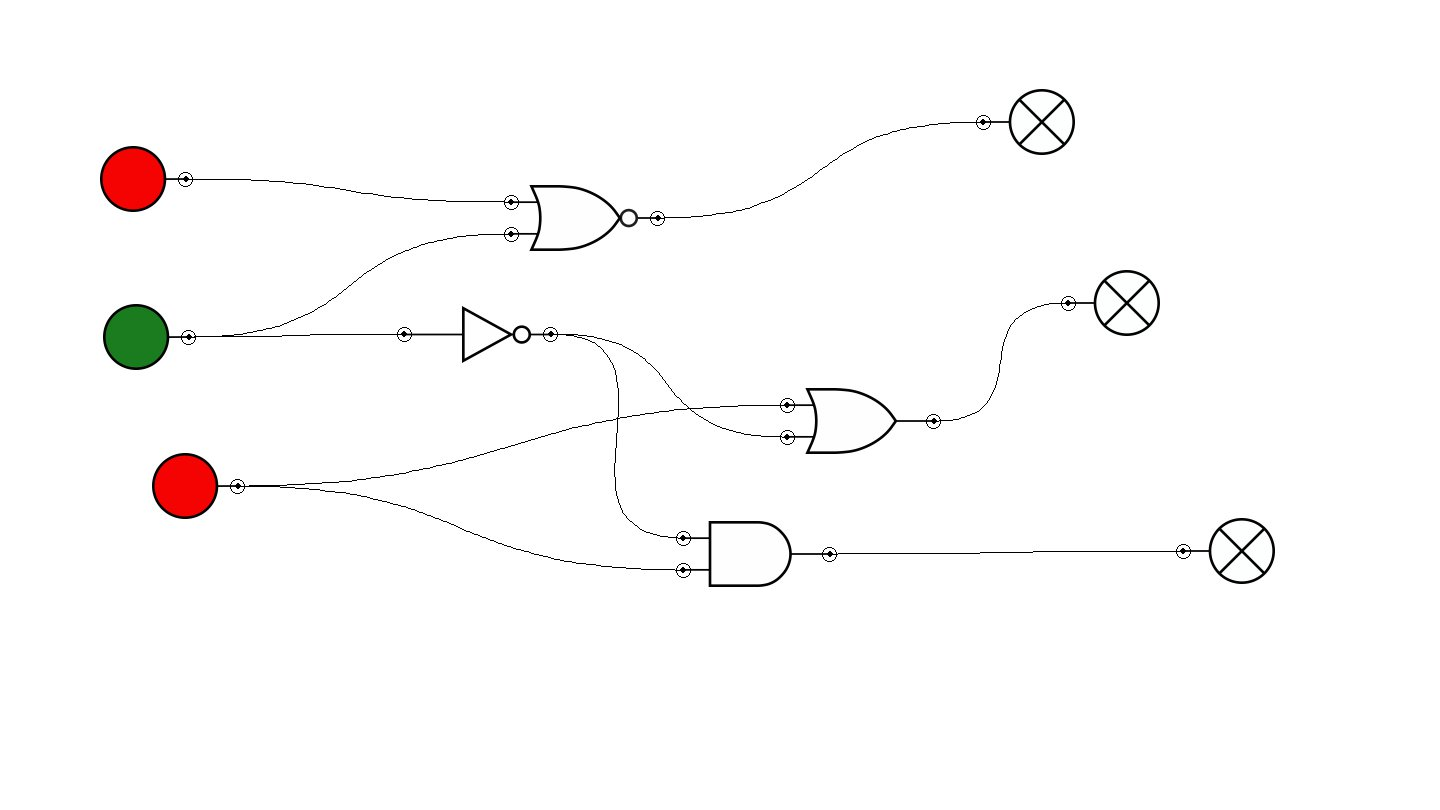and: (676, 521, 837, 587)
bulb: (1176, 518, 1275, 584), (1061, 270, 1160, 336), (976, 89, 1075, 155)
nor: (504, 185, 665, 251)
not: (397, 306, 558, 363)
or: (780, 388, 941, 454)
switch_False: (152, 453, 245, 519), (100, 146, 193, 212)
switch_True: (103, 304, 196, 370)
